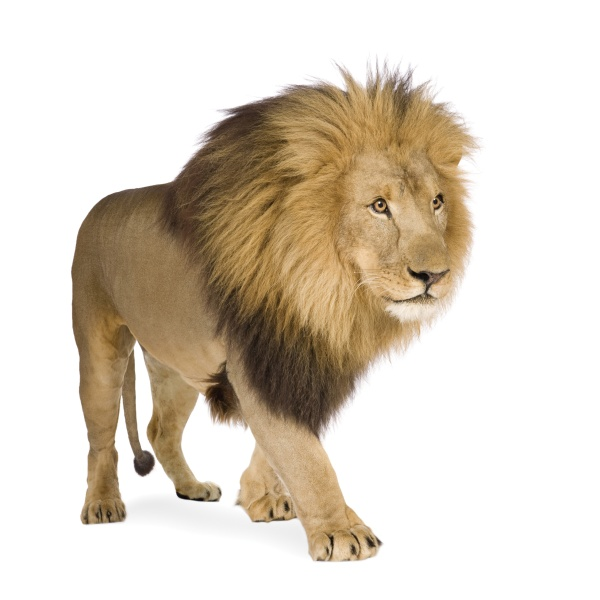Lion: (65, 62, 488, 567)
